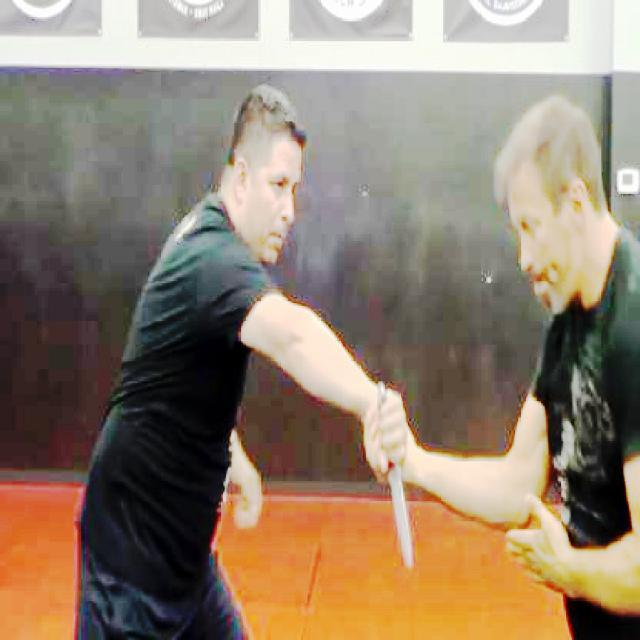Knife: (372, 372, 426, 572)
